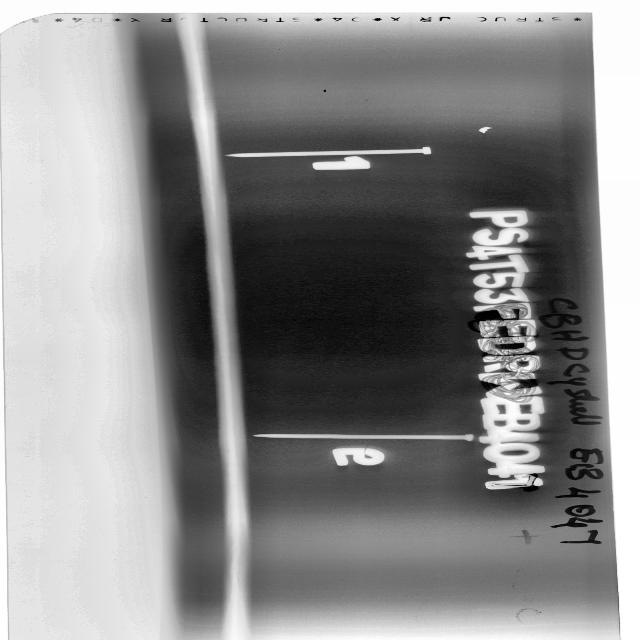LOP: (218, 204, 240, 439)
